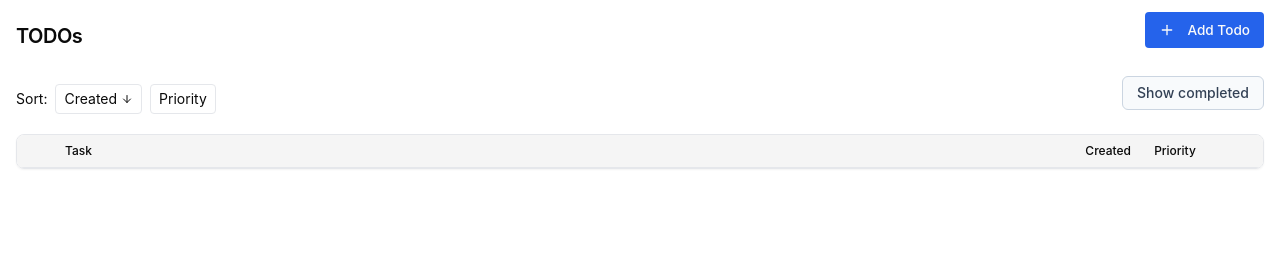
Test: TodoList › shows all completed when toggle is on
The image size is (1280, 253).
expect the text "Old completed task" is not shown: met
Click the button "Show completed".
click(1193, 93)  # box top-left (1122, 76), bottom-right (1264, 110)
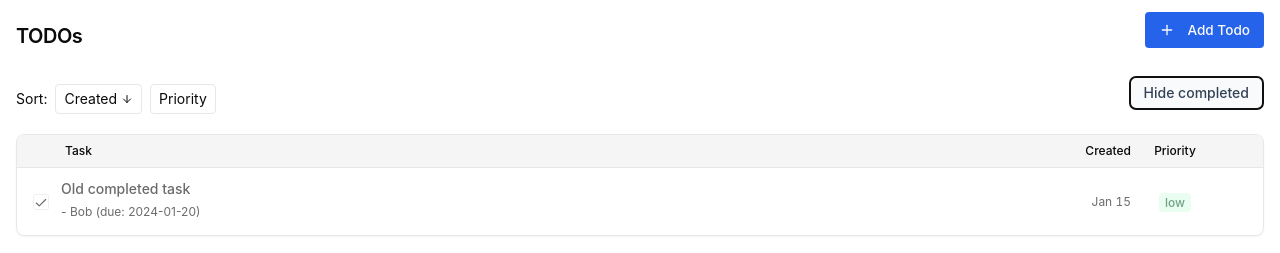
expect the text "Old completed task" is shown: met, box top-left (61, 180), bottom-right (190, 197)
